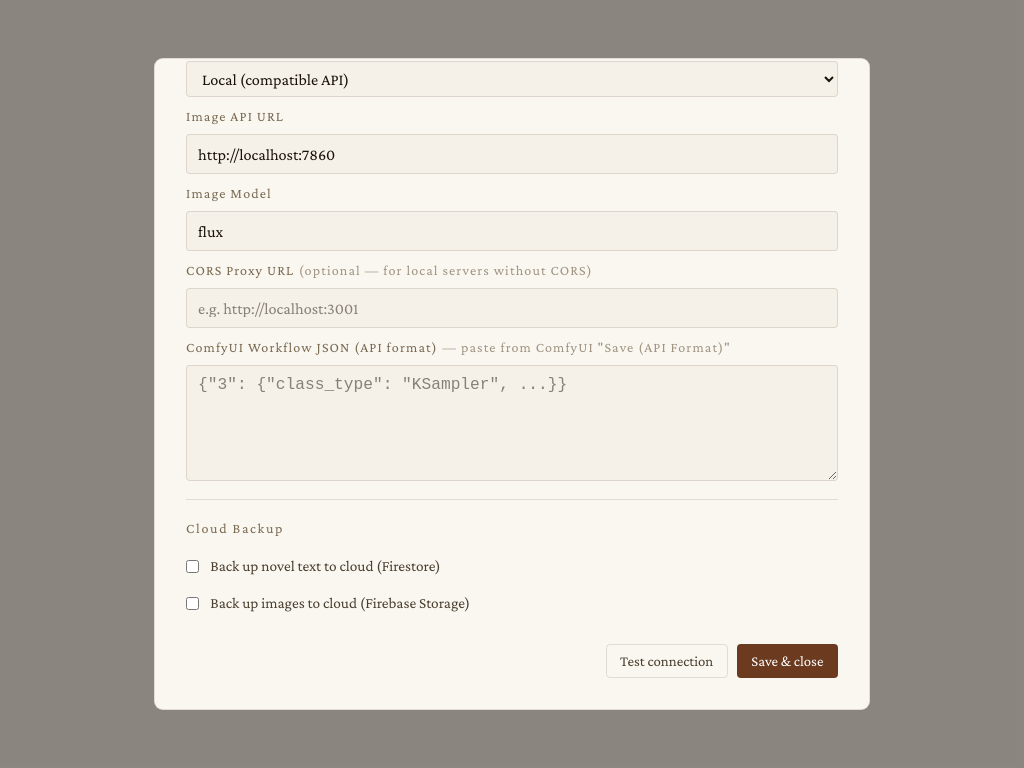
it: SettingsModal › handleTestConnection › shows Failed button text on failure
(page scrolled)
What coordinates should you click on to do the following:
click the button "Test connection"
I would click on:
 (667, 661)
Its box is [606,644,728,678].
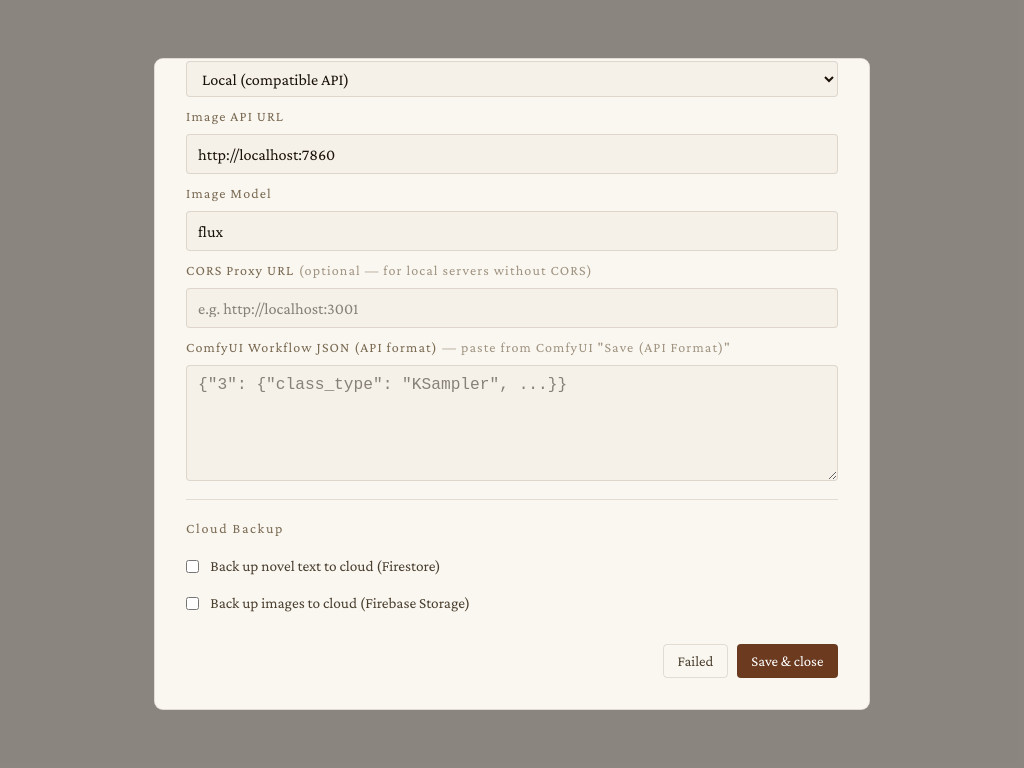
Expected: the button named "test connection" reads "Failed", [663,644,728,678]
